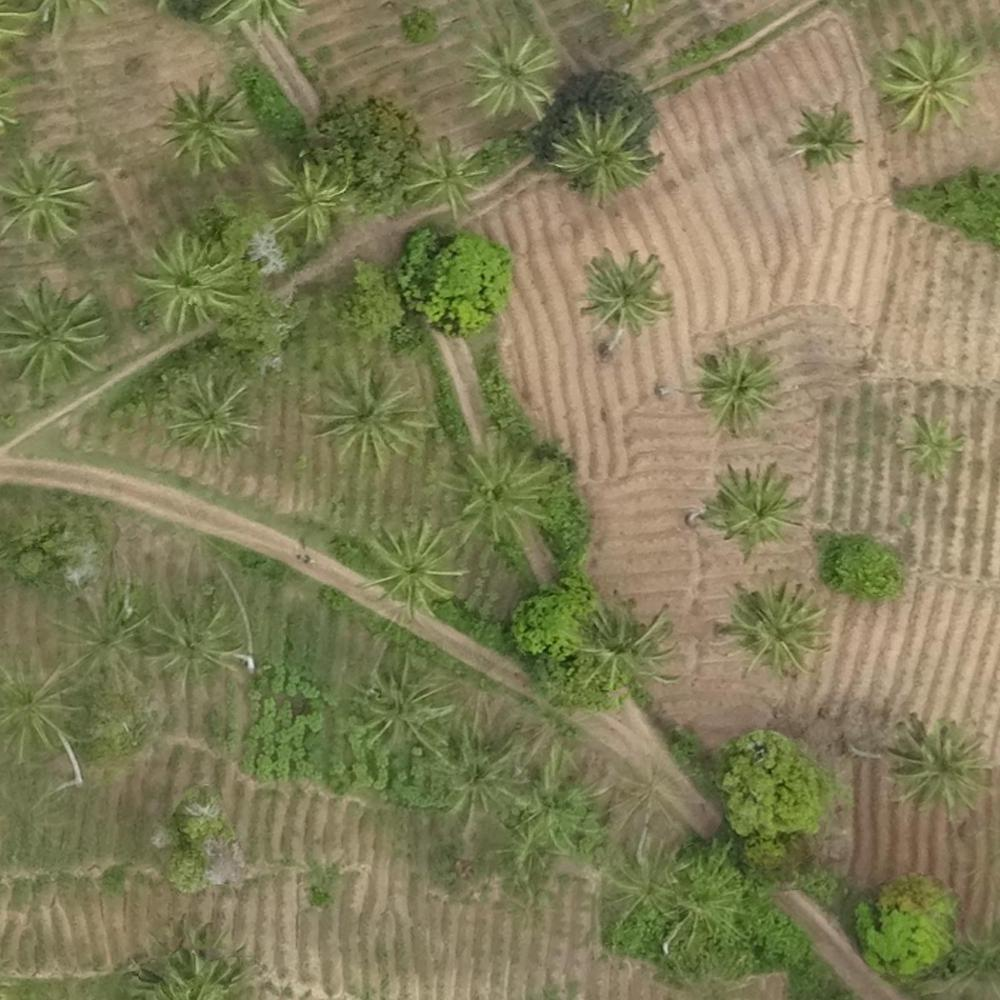Palm: (4, 281, 107, 395), (314, 362, 421, 462), (137, 229, 245, 324), (894, 717, 993, 816), (444, 442, 541, 536), (576, 596, 670, 690), (730, 580, 824, 673), (3, 149, 93, 246), (159, 78, 251, 172), (558, 108, 649, 199), (466, 25, 553, 118), (367, 518, 454, 611), (694, 340, 778, 435), (260, 155, 347, 245), (885, 32, 972, 121), (582, 250, 669, 333), (715, 462, 797, 547), (167, 373, 255, 451), (404, 134, 486, 211), (794, 106, 860, 169), (899, 411, 965, 474)
